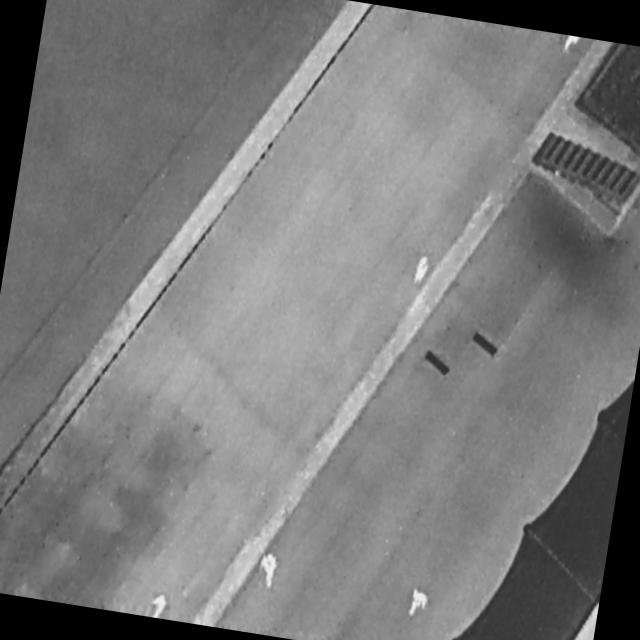person: (257, 552, 280, 590), (408, 585, 431, 620), (150, 592, 170, 619), (561, 35, 582, 58), (416, 255, 431, 287)
